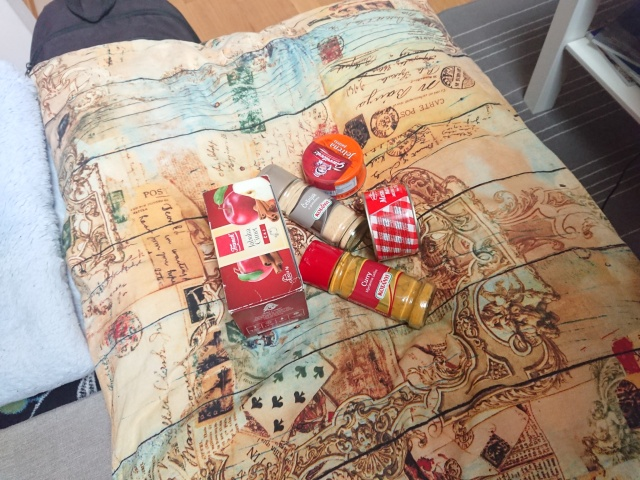Franck Apple Cinnamon Tea 60g: (199, 172, 312, 340)
Gavrilovic Pork Liver Pate 100g: (298, 131, 368, 202)
Kotanyi Curry Spices Mix 70g: (293, 238, 439, 333)
Kotanyi Garlic Granules 70g: (248, 162, 370, 254)
Podravka Luncheon Meat 150g: (358, 179, 427, 264)
